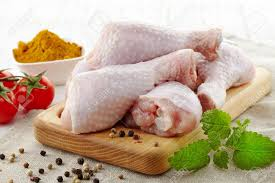Chicken: (72, 70, 187, 130)
